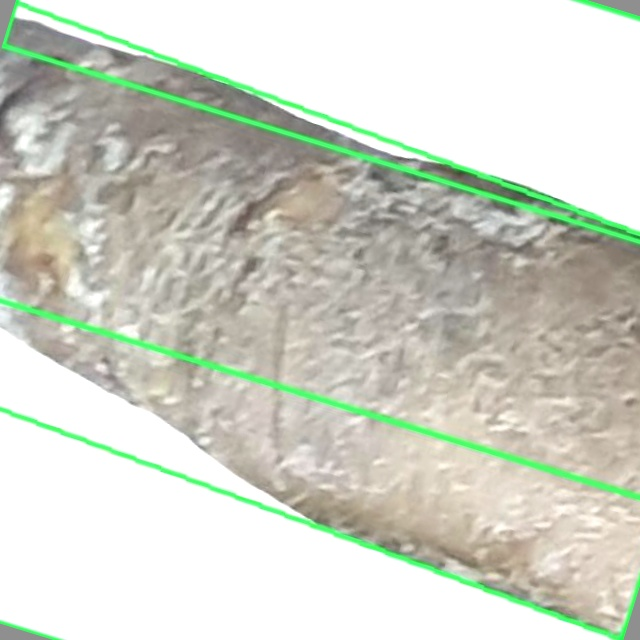Eczema: (0, 1, 639, 639), (0, 299, 639, 639)
